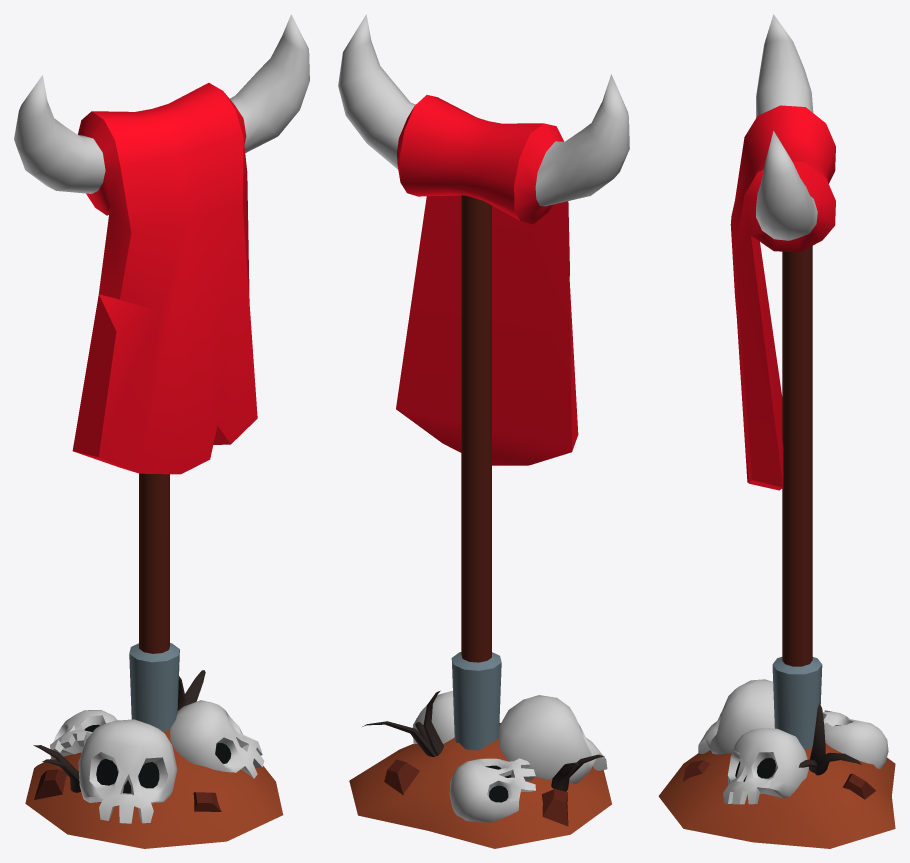
The model's file is orc_banner.obj.
3 renders of one model, left to right at view 1: azimuth 30°, elevation 25°; view 2: azimuth 150°, elevation 25°; view 3: azimuth 270°, elevation 25°, orthographic. The views are drawn at different scales.
Parts seen in each view (by area): view 1: orc_banner_Cube.052; view 2: orc_banner_Cube.052; view 3: orc_banner_Cube.052.
Part boxes in pixels (<box>): orc_banner_Cube.052: <box>14,14,309,848</box>; orc_banner_Cube.052: <box>338,14,629,848</box>; orc_banner_Cube.052: <box>658,14,895,848</box>.
Bounding box in the file's own units: 1.2 × 2.99 × 0.8877.
